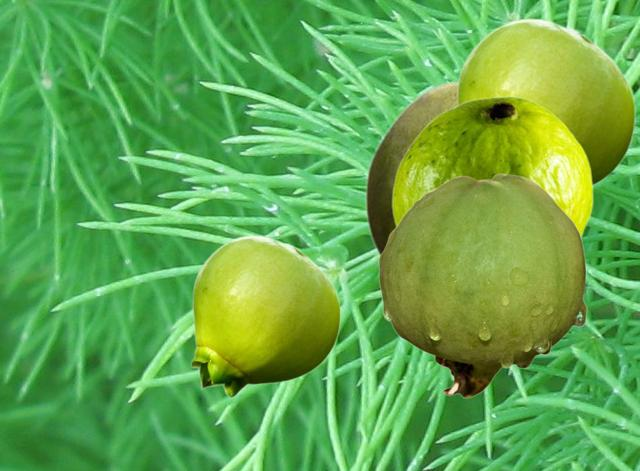guava: (378, 173, 586, 397), (455, 18, 635, 186), (391, 96, 592, 240), (190, 235, 340, 397), (364, 80, 456, 258)
